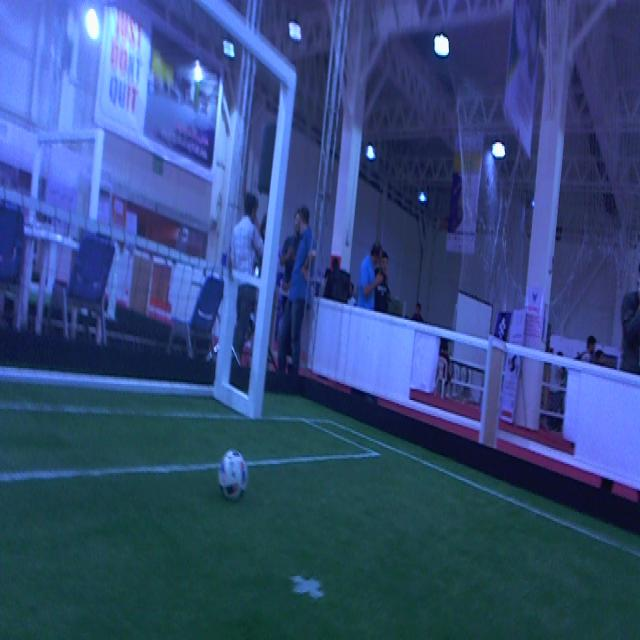ball: (217, 448, 247, 500)
goalpost: (242, 61, 298, 422)
